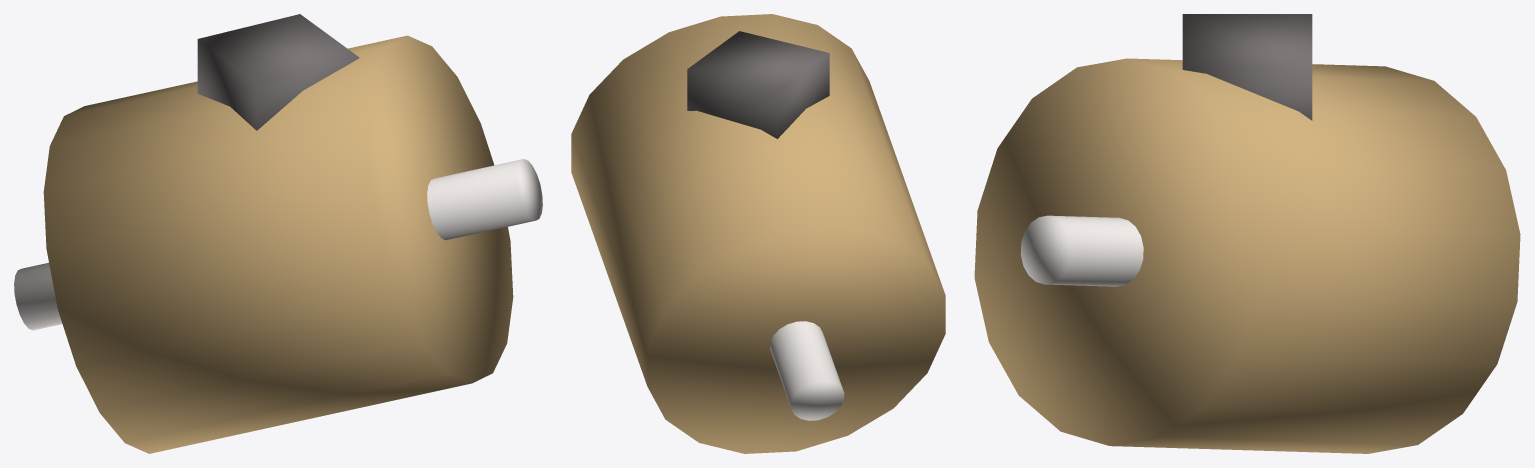
File: electric_motor.glb
The picture shows the model from 3 angles, left to right: view 1: azimuth 30°, elevation 25°; view 2: azimuth 150°, elevation 25°; view 3: azimuth 270°, elevation 25°; orthographic projection. The views are drawn at different scales.
Visible parts, largest first — view 1: stator, jbox, shaft; view 2: stator, jbox, shaft; view 3: stator, jbox, shaft.
Part boxes in pixels (bbox=[...]): stator: bbox=[43, 35, 513, 453]; jbox: bbox=[197, 14, 359, 130]; shaft: bbox=[14, 159, 542, 330]; stator: bbox=[571, 14, 945, 453]; jbox: bbox=[687, 31, 829, 138]; shaft: bbox=[770, 321, 844, 420]; stator: bbox=[974, 58, 1520, 453]; jbox: bbox=[1182, 14, 1312, 120]; shaft: bbox=[1020, 215, 1143, 286].
Bounding box in the file's own units: 1.27 × 1.15 × 1.27.
